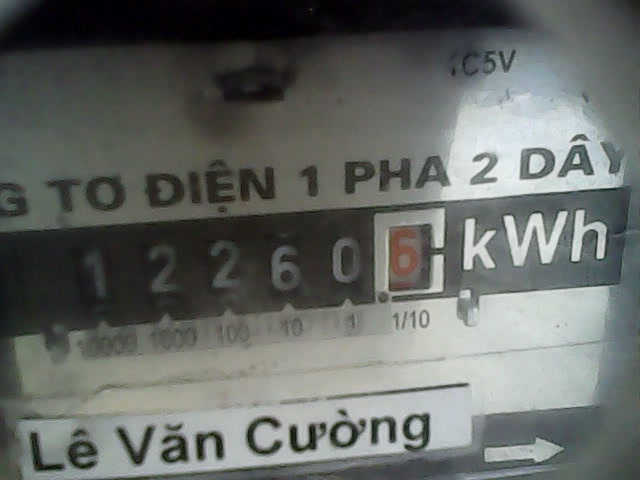phy_plate: (64, 203, 454, 331)
